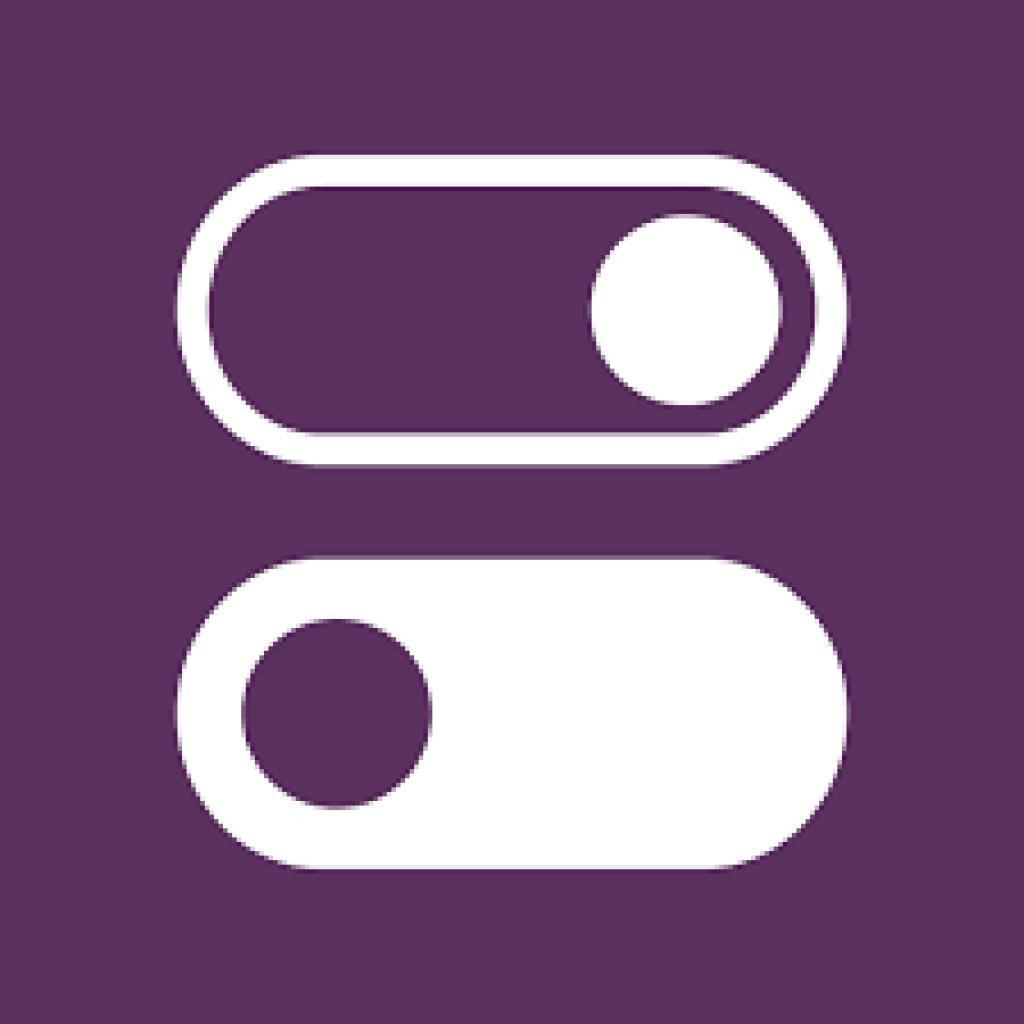switch: (171, 555, 853, 870), (177, 152, 850, 470)
